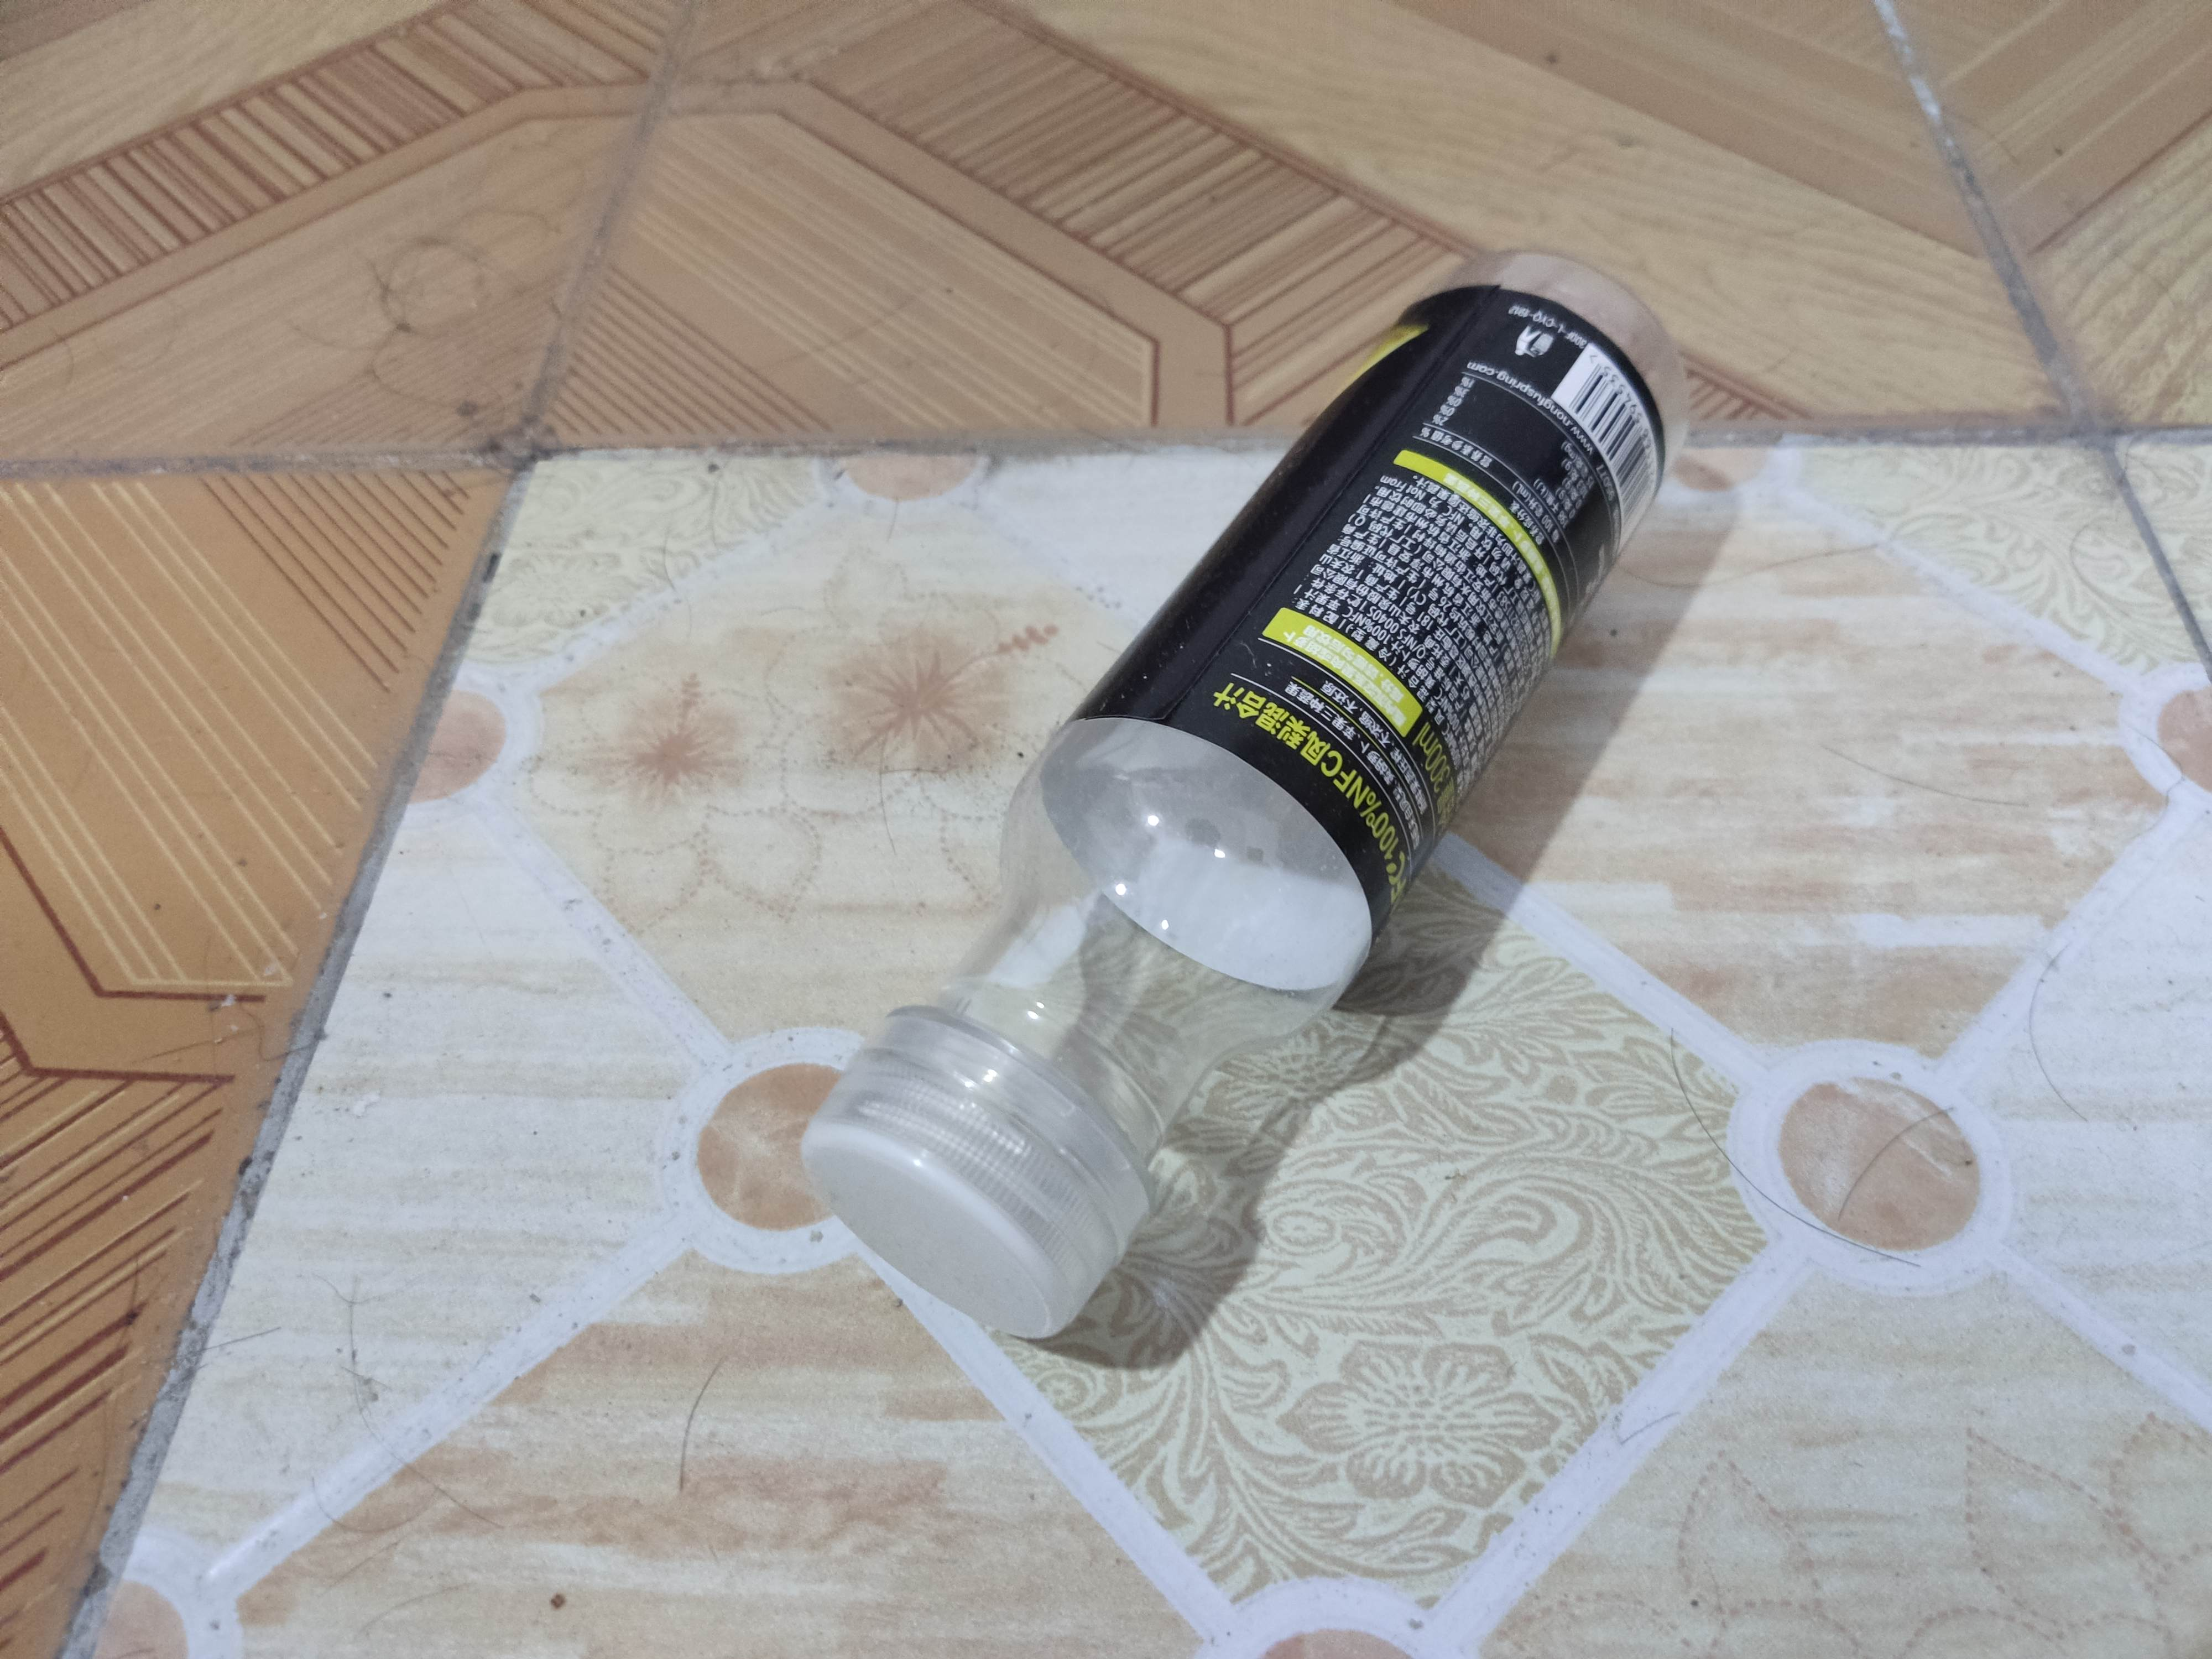Plastic Bottle: (791, 239, 1698, 1354)
